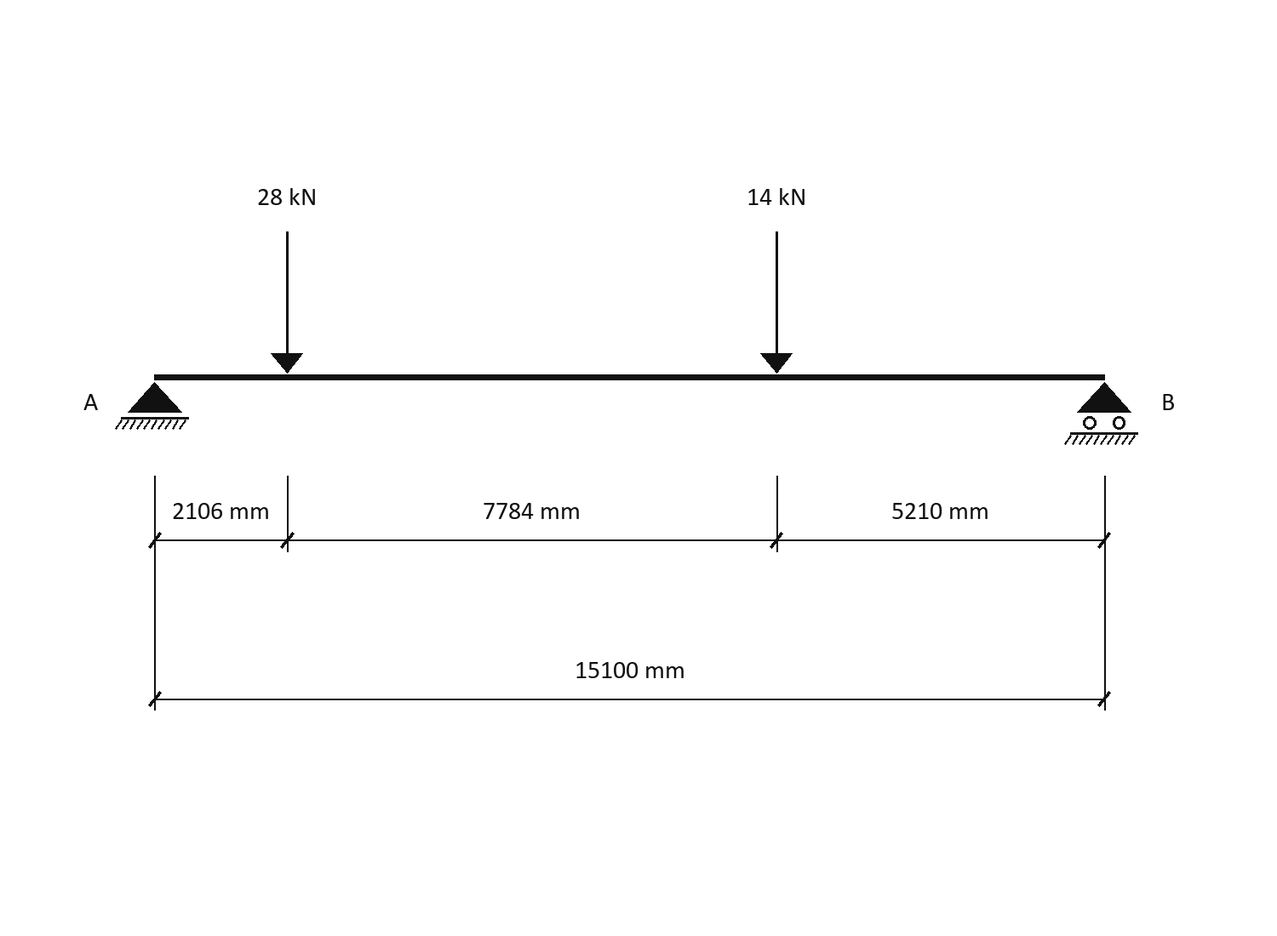pin_support: (115, 382, 189, 430)
point_load: (760, 231, 793, 374), (271, 231, 303, 374)
roller_support: (1064, 382, 1138, 445)
